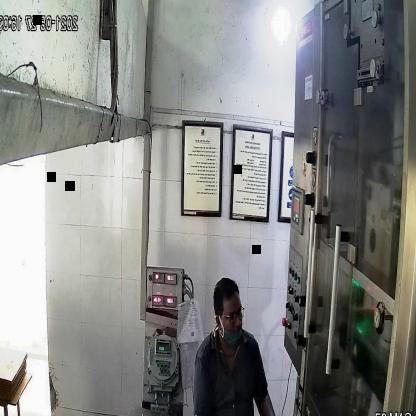goggles: (214, 301, 246, 325)
